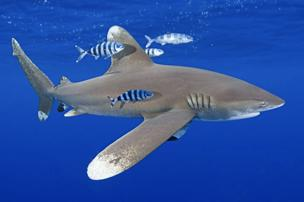Shark -Selachimorpha-: (5, 22, 288, 179)
